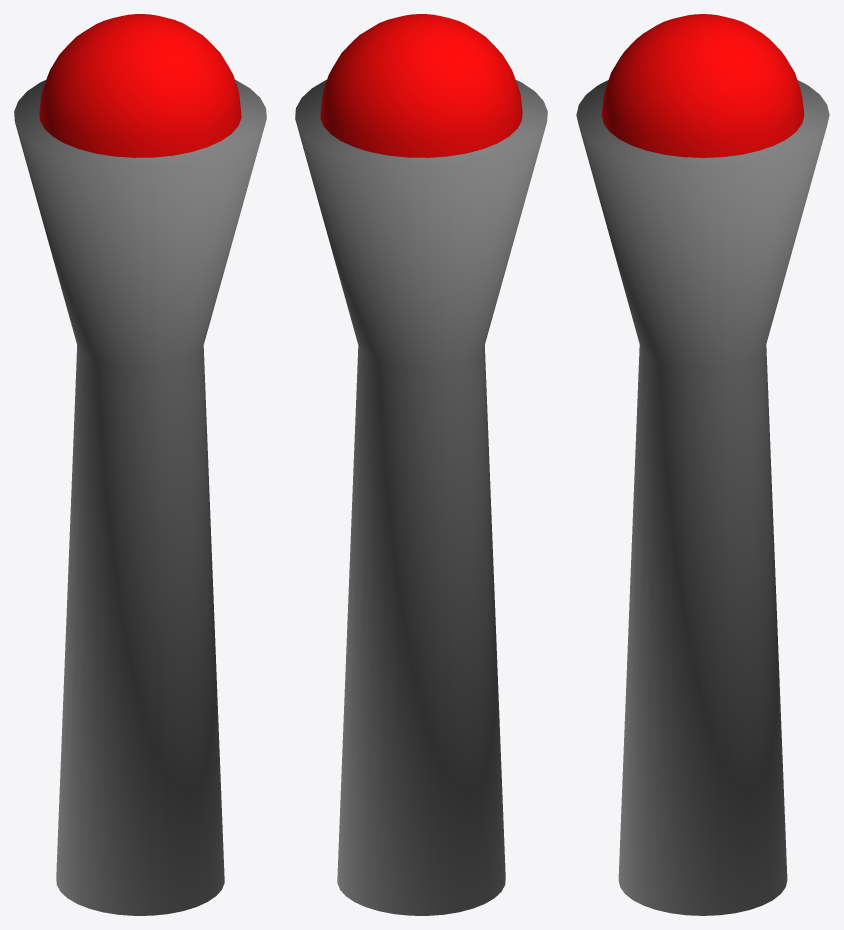
File: Buzzer.fbx
3 views of the same model, side by side, from view 1: azimuth 30°, elevation 25°; view 2: azimuth 150°, elevation 25°; view 3: azimuth 270°, elevation 25° (orthographic).
Parts seen in each view (by area): view 1: Pole, Buzzer; view 2: Pole, Buzzer; view 3: Pole, Buzzer.
Boxes of the visible parts, x1=… form: Pole: x1=14, y1=79, x2=266, y2=915; Buzzer: x1=39, y1=14, x2=241, y2=157; Pole: x1=295, y1=79, x2=547, y2=915; Buzzer: x1=320, y1=14, x2=522, y2=157; Pole: x1=576, y1=80, x2=829, y2=915; Buzzer: x1=601, y1=14, x2=804, y2=157.
Size of the model in its own units: 45 by 168 by 45.
